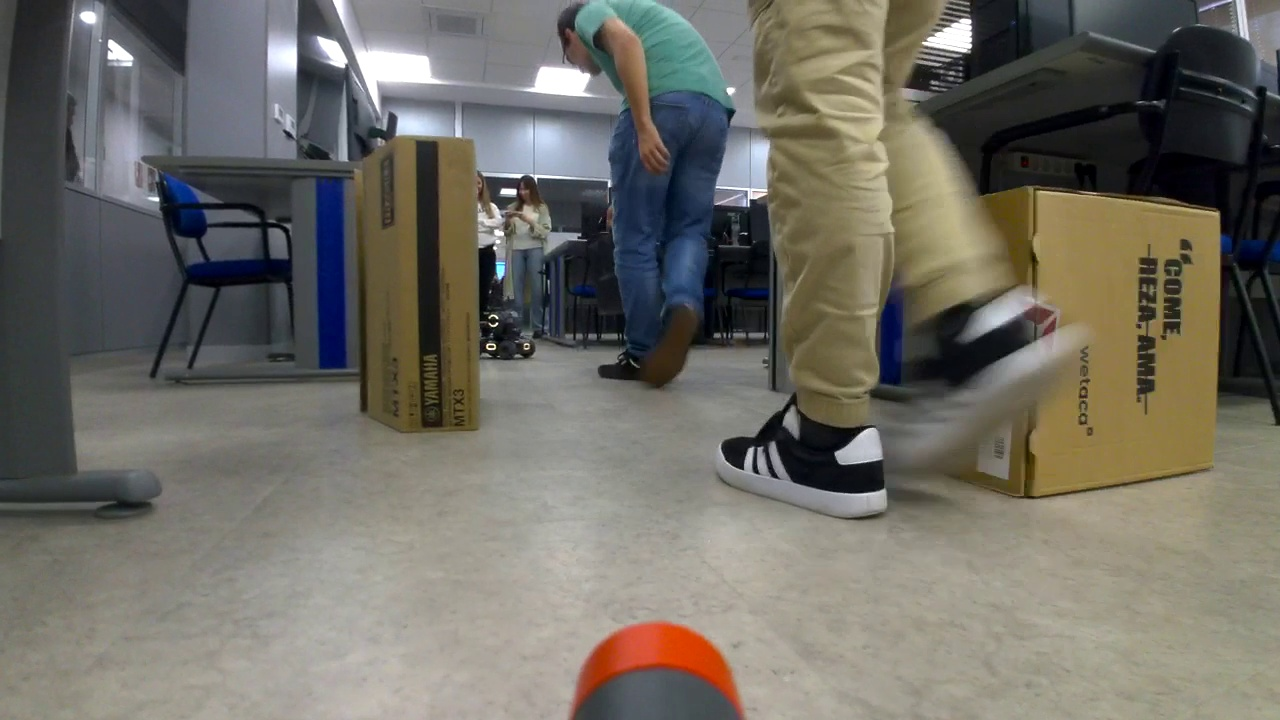robot: (479, 303, 538, 358)
